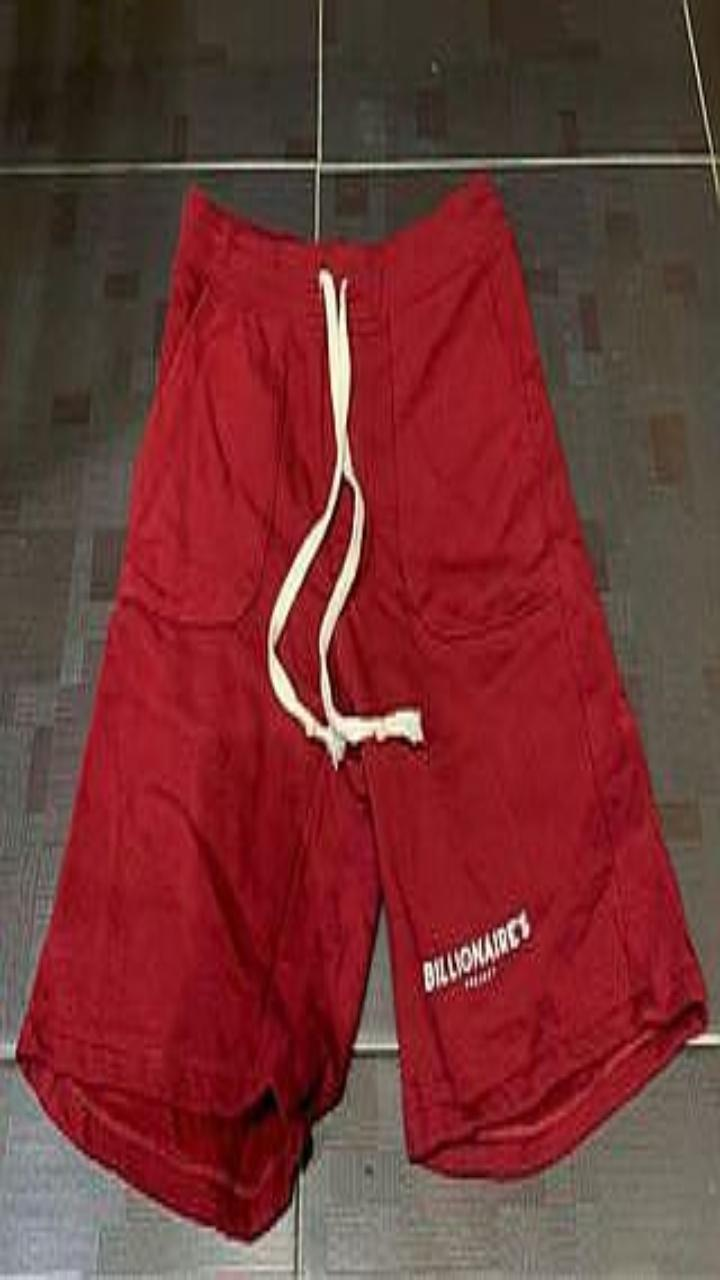Shorts: (17, 175, 705, 1237)
